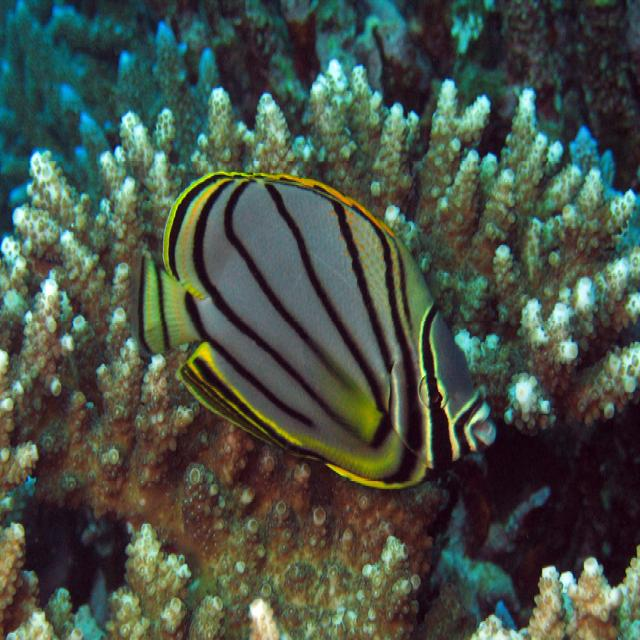ButterflyFish: (138, 167, 498, 494)
